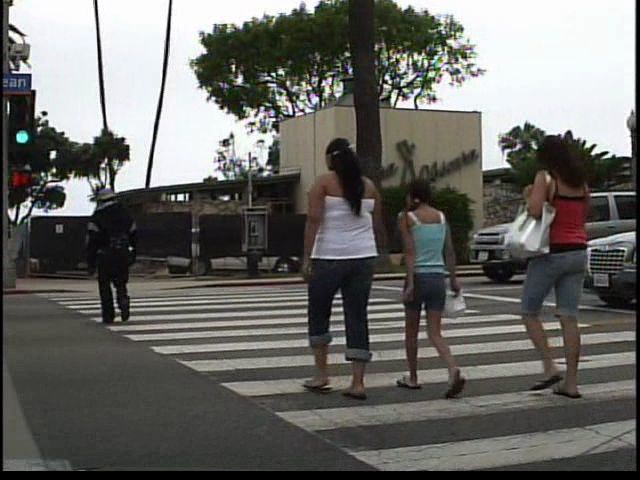person: (292, 128, 400, 401), (519, 136, 609, 409), (393, 171, 467, 402), (78, 182, 144, 333)
